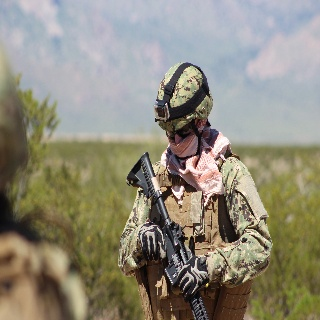rifle: (124, 151, 213, 320)
